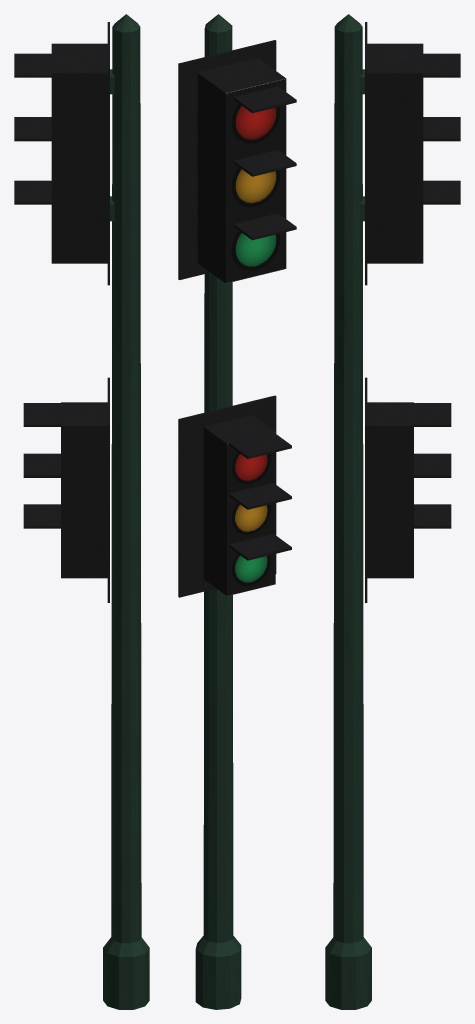
Rendered from SM_Morin_Semaforo.fbx.
The picture shows the model from 3 angles, left to right: view 1: azimuth 90°, elevation 25°; view 2: azimuth 210°, elevation 25°; view 3: azimuth 270°, elevation 25°; orthographic projection.
Visible parts, largest first — view 1: SM_Morin_Semaforo; view 2: SM_Morin_Semaforo; view 3: SM_Morin_Semaforo.
Part boxes in pixels (<box>): SM_Morin_Semaforo: <box>14,14,149,1009</box>; SM_Morin_Semaforo: <box>178,14,296,1009</box>; SM_Morin_Semaforo: <box>325,14,460,1009</box>.
Size of what is drawn, in the model's own units: 48 by 58 by 466.
1 material, 1 textured.
